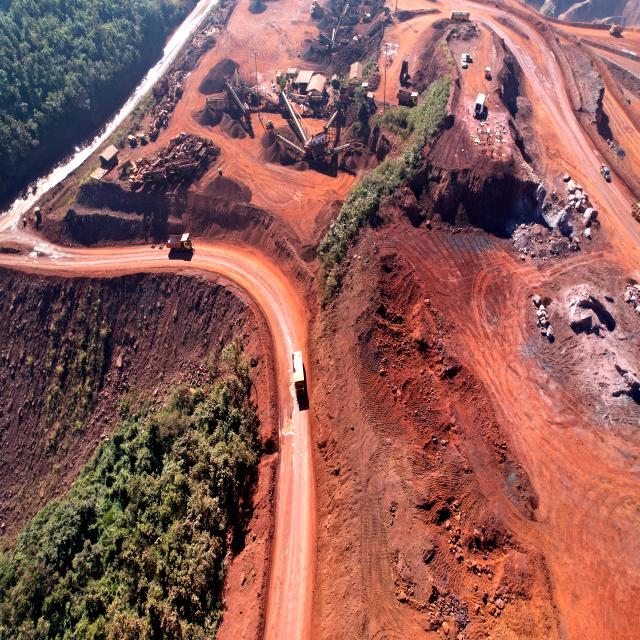Dumper truck: (292, 351, 307, 396), (168, 235, 192, 254), (397, 90, 419, 105), (401, 56, 409, 83), (310, 5, 326, 17)
Excavator: (355, 1, 371, 22), (351, 34, 372, 48)
car: (462, 53, 467, 68), (465, 54, 473, 62)
person: (467, 106, 470, 112), (487, 94, 490, 100), (491, 149, 493, 155)
